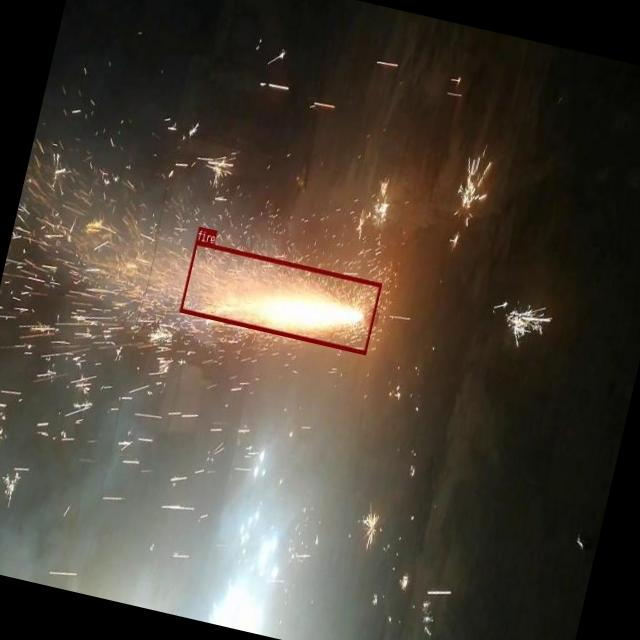fire: (178, 239, 382, 354)
